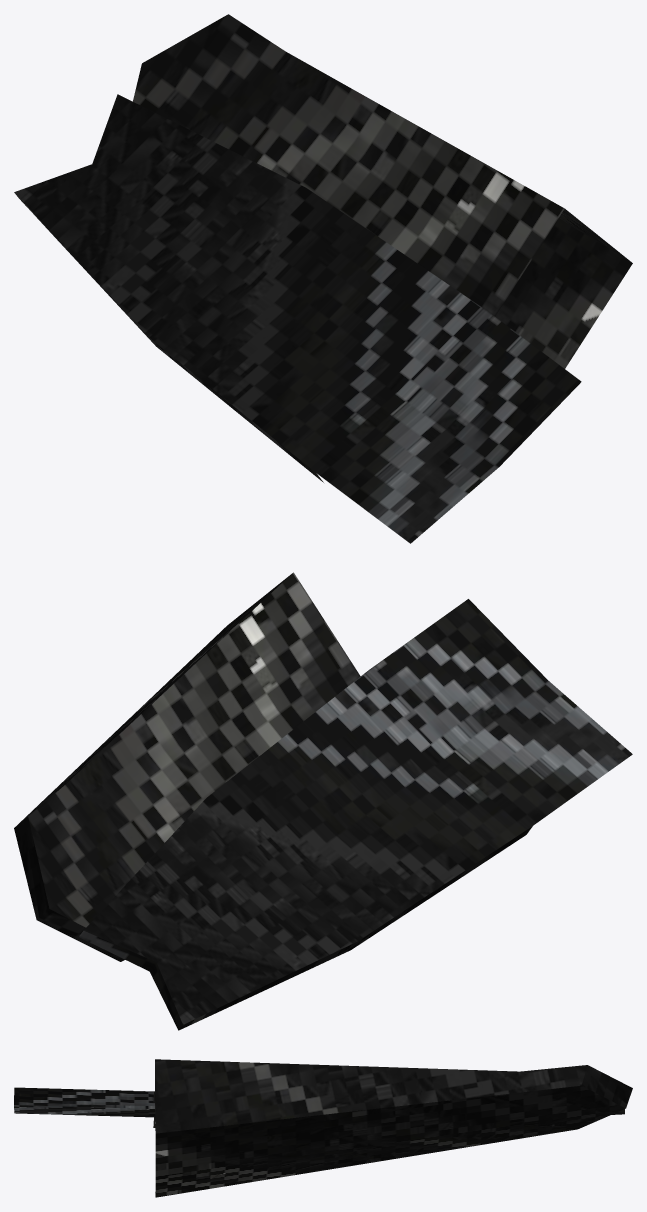
The picture shows the model from 3 angles, top to bottom: view 1: azimuth 30°, elevation 25°; view 2: azimuth 150°, elevation 25°; view 3: azimuth 270°, elevation 25°; orthographic projection. The views are drawn at different scales.
Parts seen in each view (by area): view 1: engine_blade_07_f35_ext_3_0; view 2: engine_blade_07_f35_ext_3_0; view 3: engine_blade_07_f35_ext_3_0.
Part boxes in pixels (x1=…): engine_blade_07_f35_ext_3_0: x1=14, y1=14, x2=632, y2=543; engine_blade_07_f35_ext_3_0: x1=14, y1=572, x2=632, y2=1030; engine_blade_07_f35_ext_3_0: x1=14, y1=1059, x2=632, y2=1197.
Bounding box in the file's own units: 34.23 × 25.84 × 80.62.
1 material, 1 textured.
